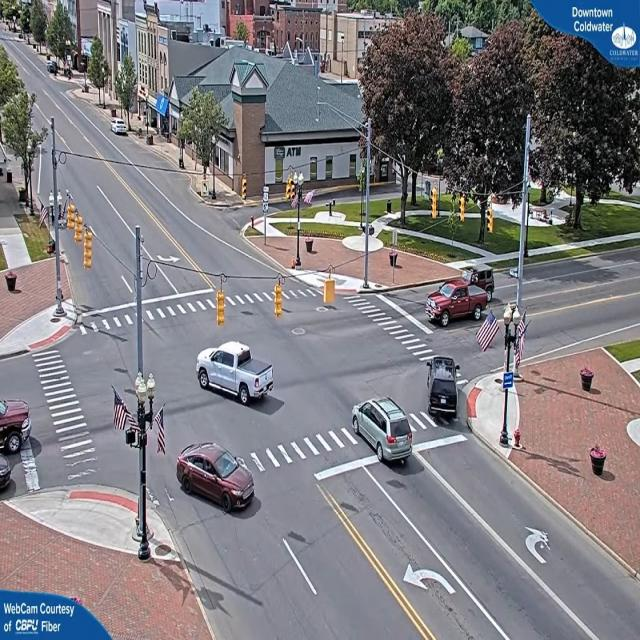car: (178, 444, 258, 514), (196, 341, 274, 406), (351, 400, 414, 468), (426, 279, 488, 327), (427, 355, 463, 415), (462, 262, 496, 290), (0, 455, 11, 492), (112, 122, 130, 138), (510, 266, 520, 281)
truck: (2, 394, 33, 460)
